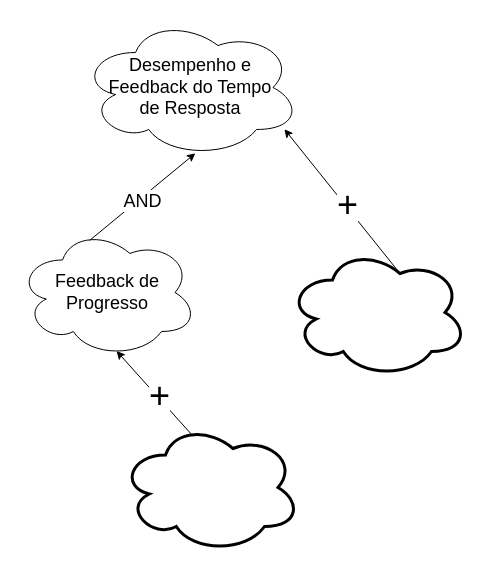
Some shapes in this 486 by 571 pixel diagram are drawn without their labels. Each missing label, with the centre of its shape:
Cancelamento ou Aguardo": (210,487)
Contabilização tempo de resposta: (377,312)
